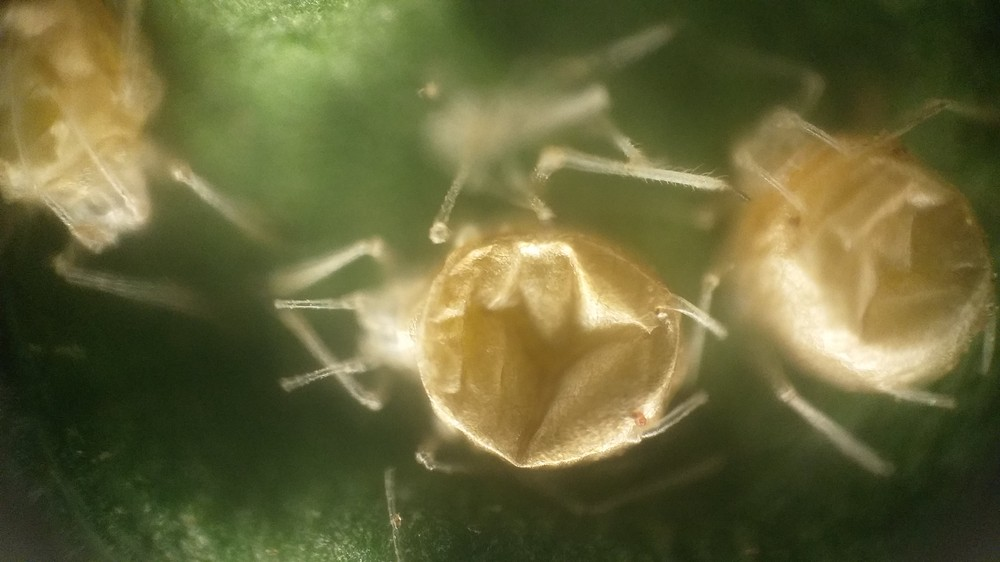Pulgon: (268, 138, 737, 529), (697, 67, 1000, 485), (1, 1, 283, 323)
